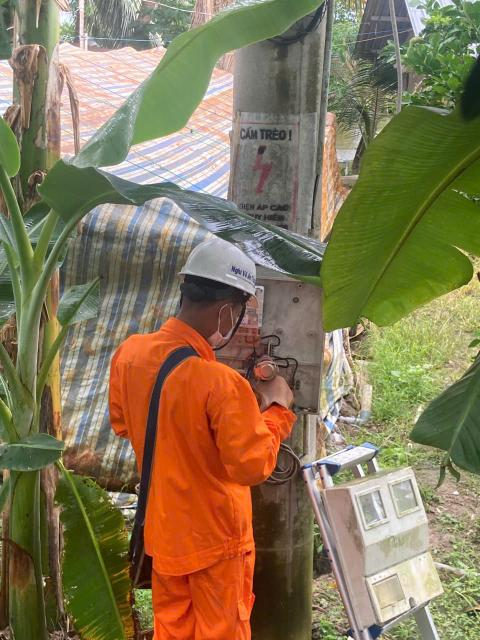gloves: (245, 363, 302, 433)
helmet: (171, 231, 277, 304)
